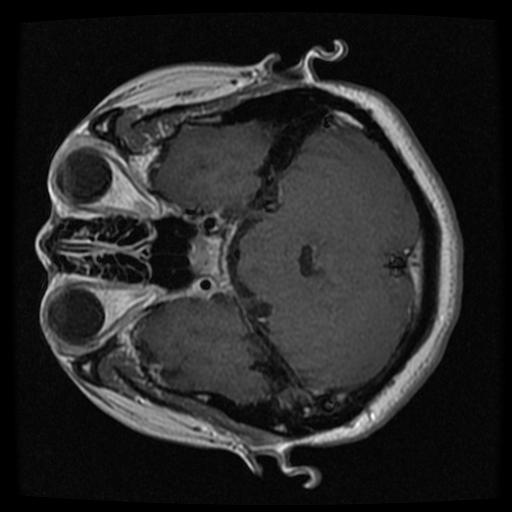pituitary tumour: (190, 234, 221, 276)
